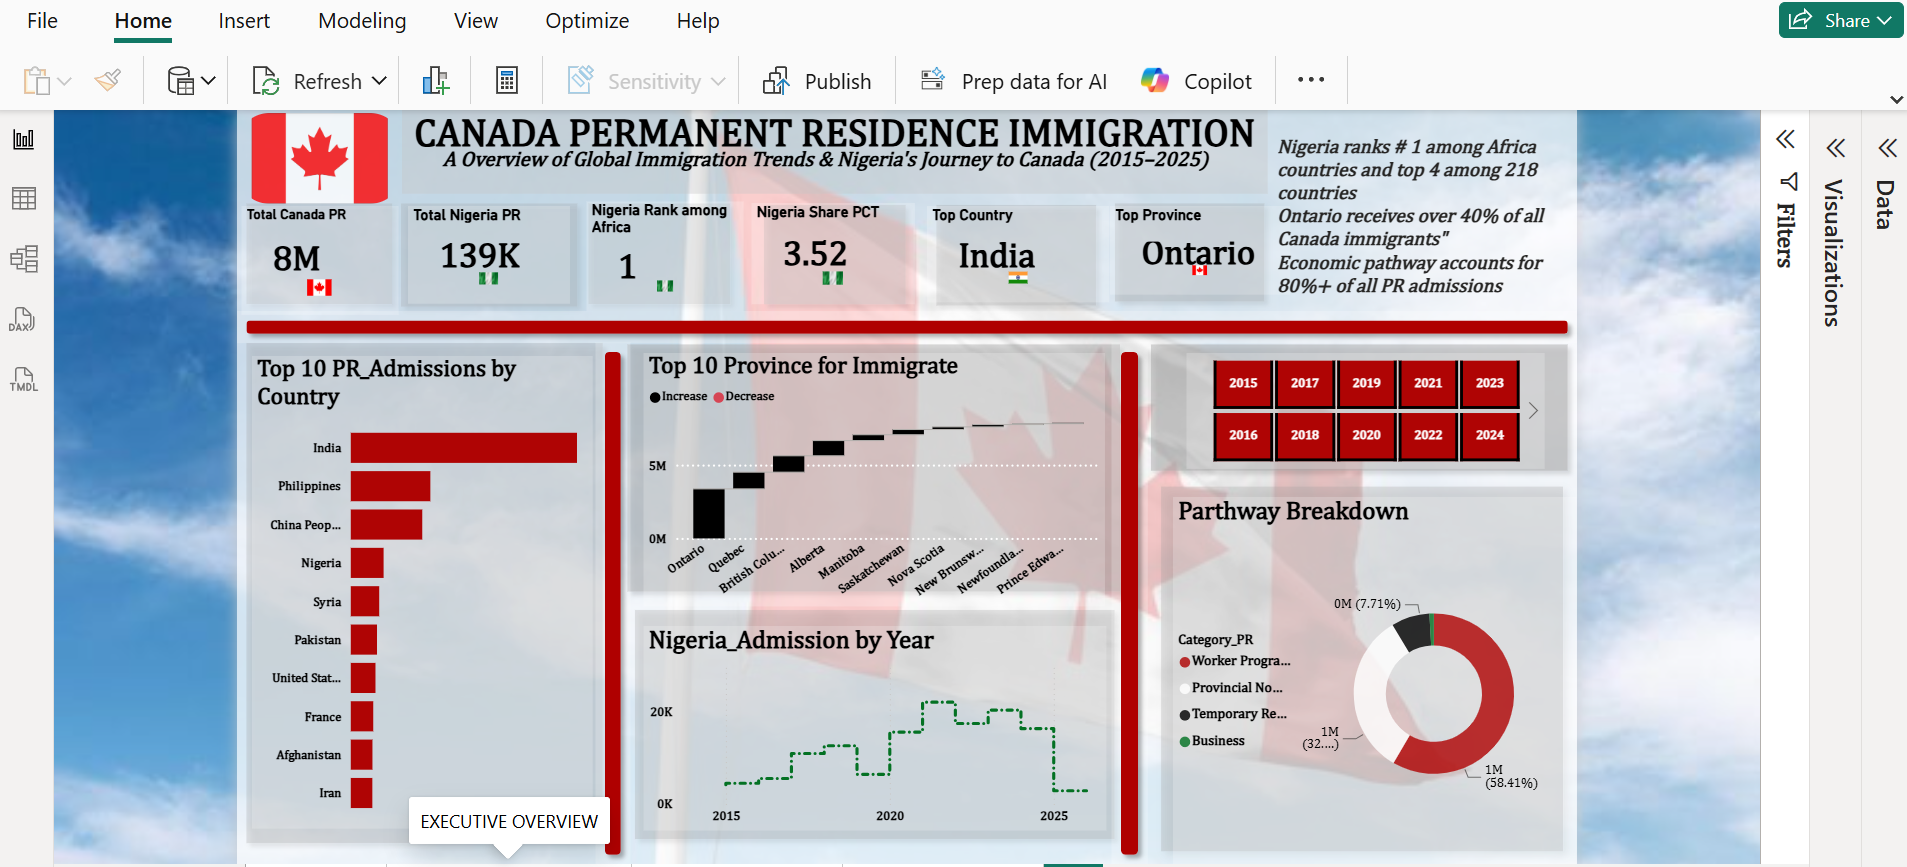

The dashboard page shown, as its layout file describes it:
{"tool":"powerbi","page":{"name":"EXECUTIVE OVERVIEW","canvas":[1280,720],"ordinal":1},"visuals":[{"type":"image","box":[0,2.2,158.1,86.8],"z":0},{"type":"shape","box":[0,79.8,157.1,114.1],"z":1000},{"type":"cardVisual","title":"Total Canada PR","fields":{"Data":["Sum(Province_PR.PR_Admissions)"]},"box":[3.7,92,149.7,104.3],"z":2000},{"type":"shape","box":[158.1,0,826.7,80.2],"z":3000},{"type":"textbox","title":"A Overview of Global Immigration Trends & Nigeria''s Journey to Canada (2015–2025)","box":[158.1,37.2,809.3,27.9],"z":4000},{"type":"shape","box":[147.2,79.8,186.5,116.6],"z":5000},{"type":"shape","box":[326.4,79.8,153.4,114.1],"z":6000},{"type":"shape","box":[494.5,81,153.4,112.9],"z":7000},{"type":"shape","box":[658.9,81,170.6,114.1],"z":8000},{"type":"cardVisual","title":"Total Nigeria PR","fields":{"Data":["All Measures.Nigeria_Admission"]},"box":[163.2,92,154.6,93.3],"z":9000},{"type":"cardVisual","title":"Nigeria Rank among Africa","fields":{"Data":["Country pr ciz.Nigeria_Rank"]},"box":[334,86.8,150.3,104.6],"z":10000},{"type":"cardVisual","title":"Nigeria Share PCT","fields":{"Data":["All Measures.Nigeria_Share_Pct"]},"box":[492,89.1,155.8,96.8],"z":11000},{"type":"shape","box":[829.5,79.8,160.7,111.7],"z":12000},{"type":"shape","box":[0,213.5,358.3,495.7],"z":13000},{"type":"cardVisual","title":"Top Country","fields":{"Data":["All Measures.Top_Country"]},"box":[658.9,92,174.2,92],"z":14000},{"type":"cardVisual","title":"Top Province","fields":{"Data":["All Measures.Top_Province"]},"box":[833.1,92,171.8,84.7],"z":15000},{"type":"clusteredBarChart","title":"Top 10 PR_Admissions by Country ","fields":{"Category":["Country pr ciz.Country  PR"],"Y":["Sum(Country pr ciz.PR_Admissions)"]},"box":[14.7,235.6,325.2,451.5],"z":16000},{"type":"shape","box":[863.8,214.7,416,138.7],"z":17000},{"type":"slicer","fields":{"Values":["Category PR.Year"]},"box":[906.8,231.9,342.3,110.4],"z":18000},{"type":"shape","box":[370.6,468.7,476.1,236.8],"z":19000},{"type":"shape","box":[364.4,214.7,488.3,254],"z":20000},{"type":"lineChart","fields":{"Category":["Country pr ciz.Year"],"Y":["All Measures.Nigeria_Admission"]},"box":[387.7,492,441.7,195.1],"z":21000},{"type":"shape","box":[869.9,346,409.8,374.2],"z":22000},{"type":"waterfallChart","title":"Top 10 Province for  Immigrate","fields":{"Category":["Province_PR.Province_Immigration_Category"],"Y":["Sum(Province_PR.PR_Admissions)"]},"box":[387.7,231.9,440.5,241.7],"z":23000},{"type":"donutChart","title":"Parthway Breakdown","fields":{"Category":["Category PR.Category_PR"],"Y":["Sum(Category PR.PR_Admissions)"]},"box":[894.5,369.3,385.3,350.9],"z":24000},{"type":"shape","box":[0,191.4,1279.8,30.7],"z":25000},{"type":"textbox","box":[989,19.6,289.6,170.6],"z":26000},{"type":"textbox","title":"CANADA PERMANENT RESIDENCE IMMIGRATION ANALYSIS","box":[100.6,1.2,941.1,35.6],"z":27000},{"type":"shape","box":[835.6,222.1,34.4,498.2],"z":28000},{"type":"shape","box":[342.3,222.1,33.1,498.2],"z":29000}]}

Visuals, with their boxes on the page's 1280x720 design canvas (x1, y1, x2, y2). These are canvas units, not pixel positions in the 1907x867 screenshot, which may show the page scaled, cropped or inside an application window:
image: region(0, 2, 158, 89)
shape: region(0, 80, 157, 194)
"Total Canada PR" cardVisual: region(4, 92, 153, 196)
shape: region(158, 0, 985, 80)
"A Overview of Global Immigration Trends & Nigeria''s Journey to Canada (2015–2025)" textbox: region(158, 37, 967, 65)
shape: region(147, 80, 334, 196)
shape: region(326, 80, 480, 194)
shape: region(494, 81, 648, 194)
shape: region(659, 81, 830, 195)
"Total Nigeria PR" cardVisual: region(163, 92, 318, 185)
"Nigeria Rank among Africa" cardVisual: region(334, 87, 484, 191)
"Nigeria Share PCT" cardVisual: region(492, 89, 648, 186)
shape: region(830, 80, 990, 192)
shape: region(0, 214, 358, 709)
"Top Country" cardVisual: region(659, 92, 833, 184)
"Top Province" cardVisual: region(833, 92, 1005, 177)
"Top 10 PR_Admissions by Country " clusteredBarChart: region(15, 236, 340, 687)
shape: region(864, 215, 1280, 353)
slicer - Category PR.Year: region(907, 232, 1249, 342)
shape: region(371, 469, 847, 706)
shape: region(364, 215, 853, 469)
lineChart - Country pr ciz.Year x All Measures.Nigeria_Admission: region(388, 492, 829, 687)
shape: region(870, 346, 1280, 720)
"Top 10 Province for  Immigrate" waterfallChart: region(388, 232, 828, 474)
"Parthway Breakdown" donutChart: region(894, 369, 1280, 720)
shape: region(0, 191, 1280, 222)
textbox: region(989, 20, 1279, 190)
"CANADA PERMANENT RESIDENCE IMMIGRATION ANALYSIS" textbox: region(101, 1, 1042, 37)
shape: region(836, 222, 870, 720)
shape: region(342, 222, 375, 720)
